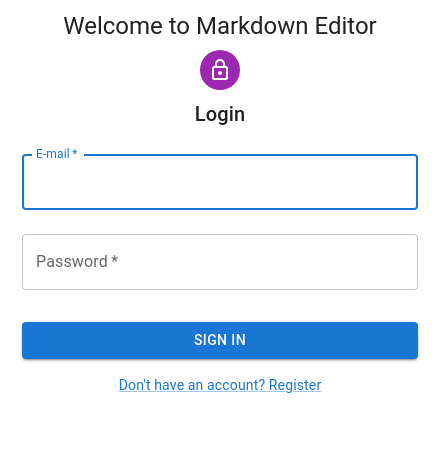
Test: Login Component › Deve mostrar erro ao enviar formulário vazio
The width and height of the screenshot is (441, 458).
Click the submit button: (220, 341) [22,322,418,359]
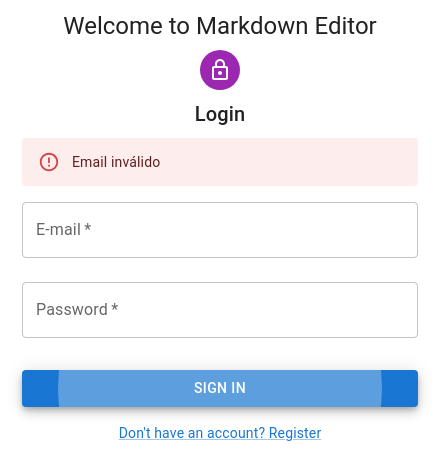
Expected: the text "Email inválido" is shown, [72,154,160,170]
